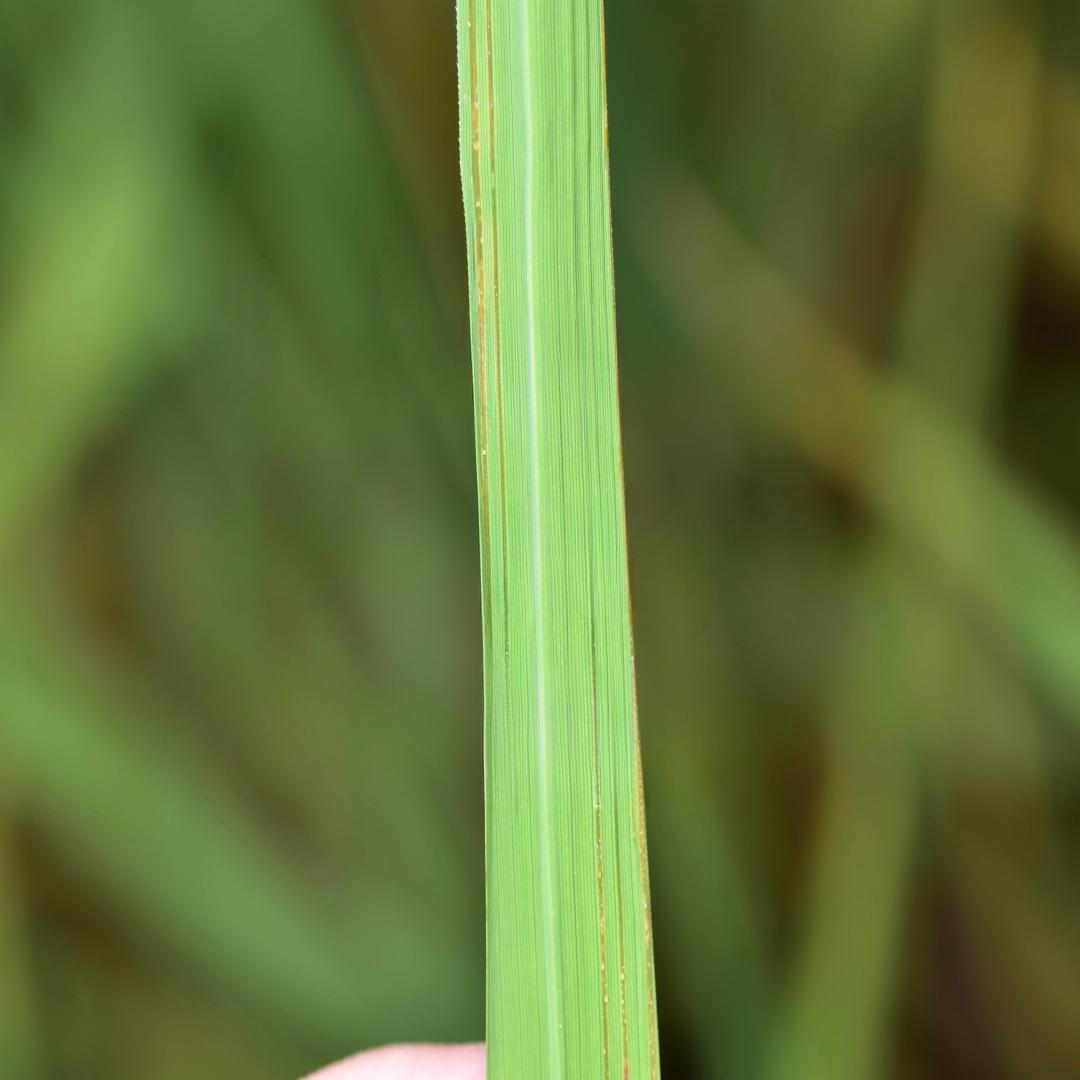BLS: (600, 0, 658, 1079), (468, 0, 491, 680), (491, 187, 508, 688), (592, 684, 609, 1079), (615, 791, 629, 1079), (485, 0, 495, 174)
